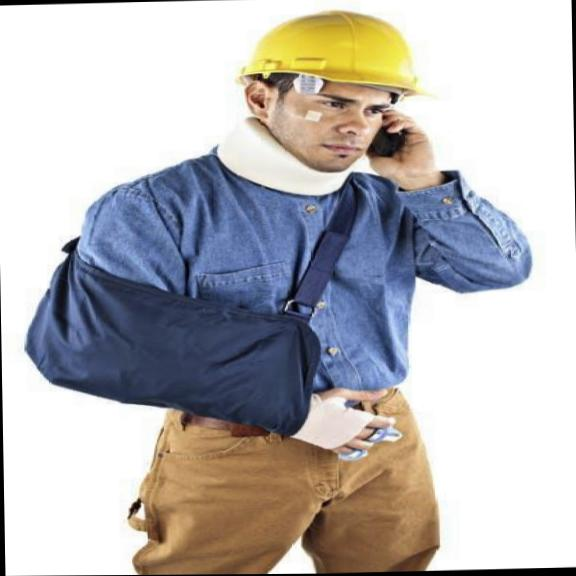no_safety_vest: (97, 149, 478, 405)
